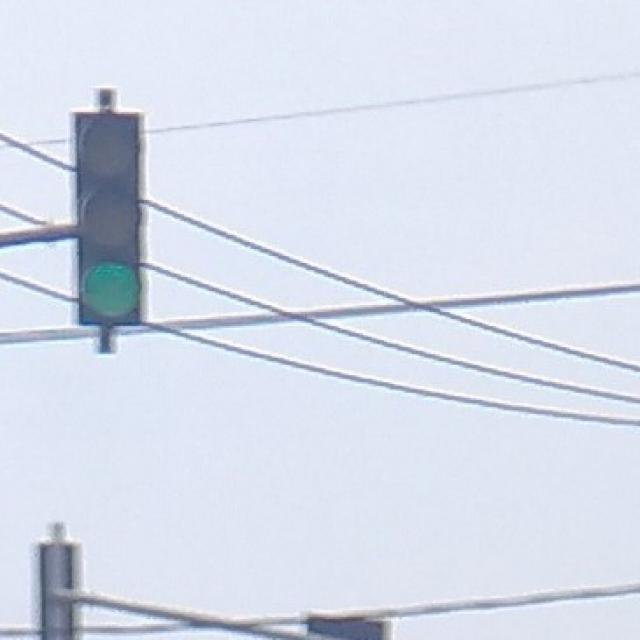green light: (75, 113, 144, 324)
